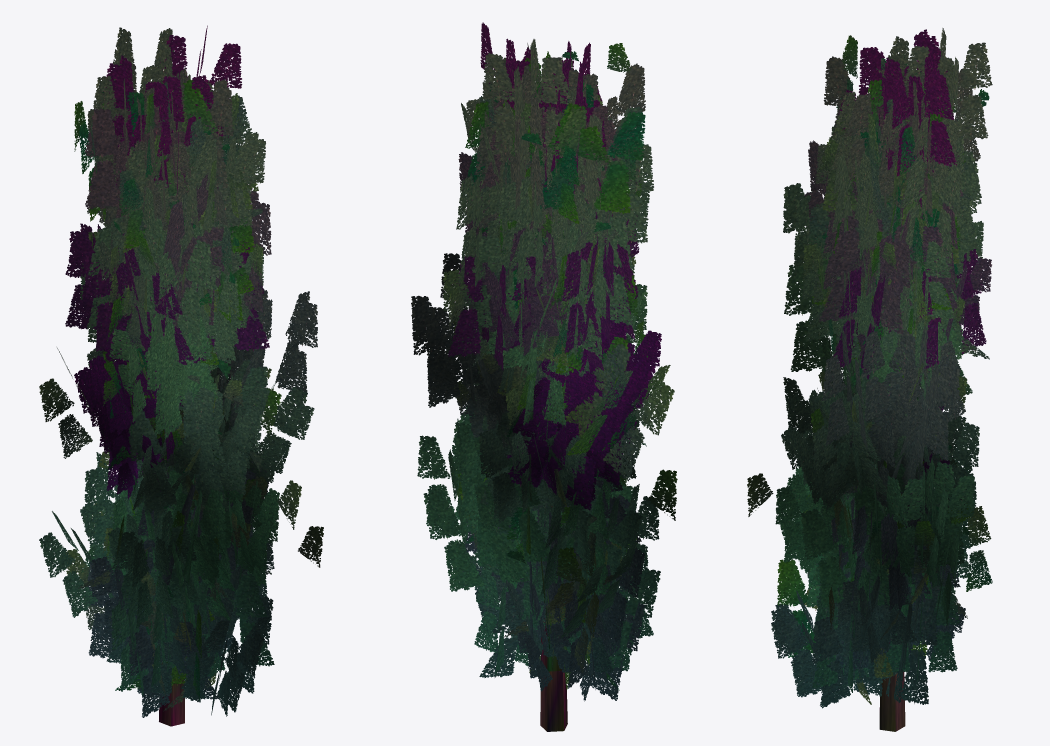
The model's file is nat_cypress_c_LOD1.glb.
3 views of the same model, side by side, from view 1: azimuth 30°, elevation 25°; view 2: azimuth 150°, elevation 25°; view 3: azimuth 270°, elevation 25° (orthographic). The views are drawn at different scales.
Parts seen in each view (by area): view 1: nat_cypress_c_LOD1; view 2: nat_cypress_c_LOD1; view 3: nat_cypress_c_LOD1.
Part boxes in pixels (x1,y1,x2,y2): nat_cypress_c_LOD1: [39, 25, 323, 726]; nat_cypress_c_LOD1: [411, 22, 677, 731]; nat_cypress_c_LOD1: [747, 28, 992, 731].
Bounding box in the file's own units: 5.31 × 11.75 × 4.77.
2 materials, 2 textured.
